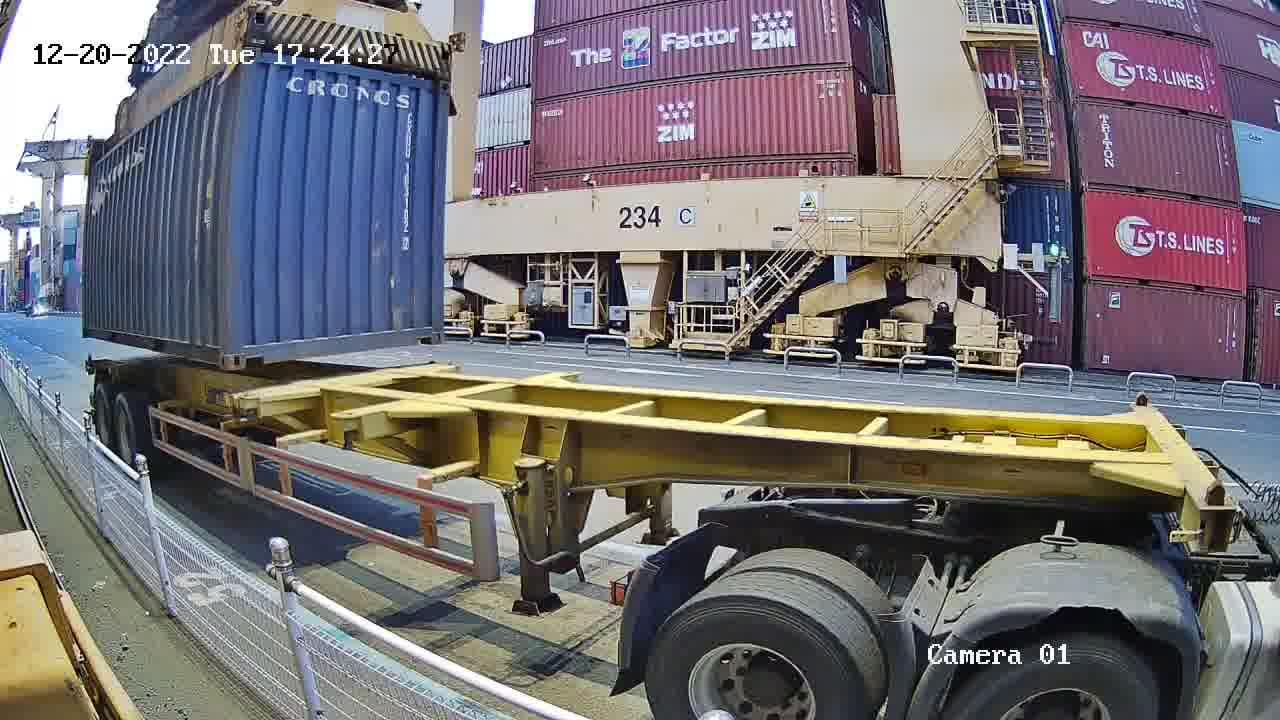Chassis: (244, 363, 461, 418), (229, 360, 435, 395)
Cone: (236, 392, 256, 419), (219, 392, 234, 418)
Hole_L: (230, 335, 267, 369)
Hole_R: (200, 332, 230, 372), (415, 314, 444, 345)
Tire: (115, 395, 136, 465), (93, 387, 112, 441)
